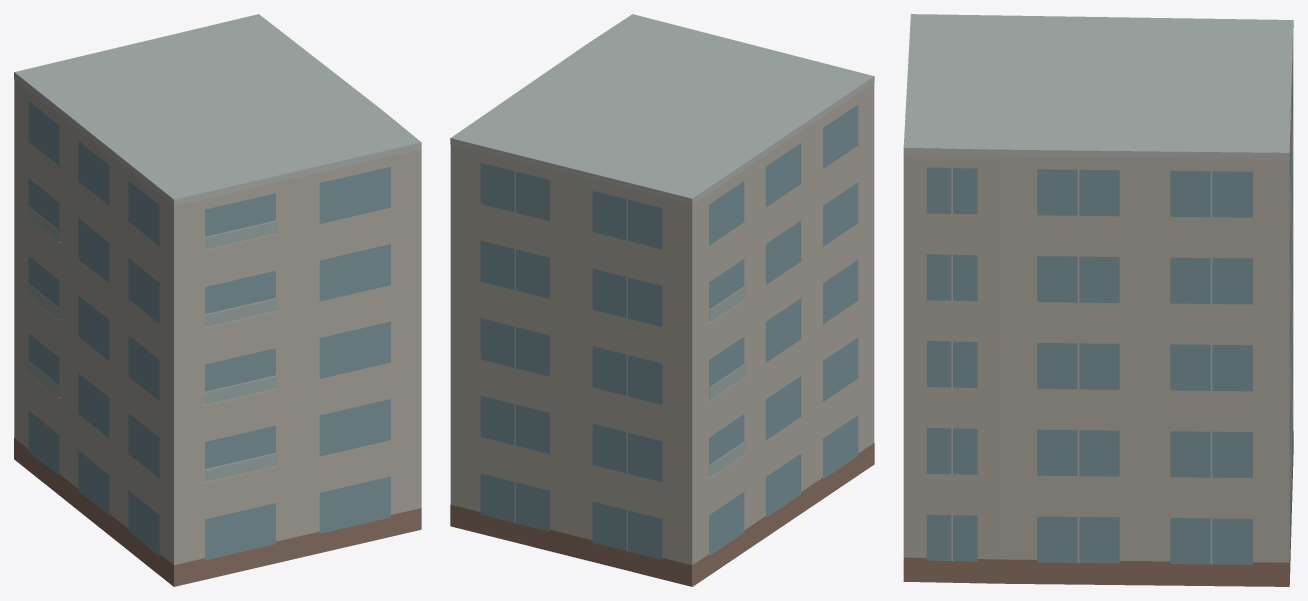
Rendered from survey-upis-32986259.glb.
The picture shows the model from 3 angles, left to right: view 1: azimuth 30°, elevation 25°; view 2: azimuth 150°, elevation 25°; view 3: azimuth 270°, elevation 25°; orthographic projection. The views are drawn at different scales.
Visible parts, largest first — view 1: survey-upis-32986259.tmp; view 2: survey-upis-32986259.tmp; view 3: survey-upis-32986259.tmp.
Boxes of the visible parts, <box> form: survey-upis-32986259.tmp: <box>14,14,421,586</box>; survey-upis-32986259.tmp: <box>450,14,874,586</box>; survey-upis-32986259.tmp: <box>903,14,1293,586</box>.
Bounding box in the file's own units: 10.06 × 14.65 × 11.93.
